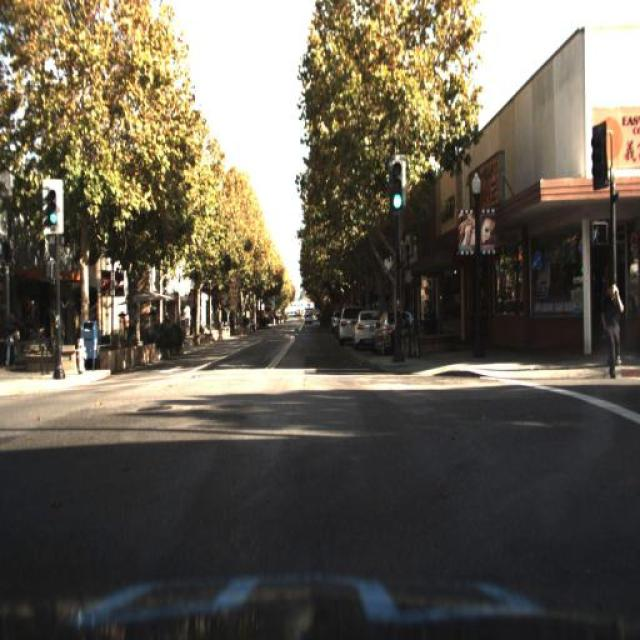car: (371, 307, 413, 355), (355, 318, 384, 368), (336, 296, 362, 346), (355, 312, 377, 346), (340, 308, 354, 342)
trafficLight: (600, 280, 626, 380), (600, 278, 622, 377), (392, 312, 410, 376), (4, 310, 18, 380)
trafficLight-Green: (390, 158, 406, 217)
trafficLight-GreenLeft: (43, 180, 57, 234)
